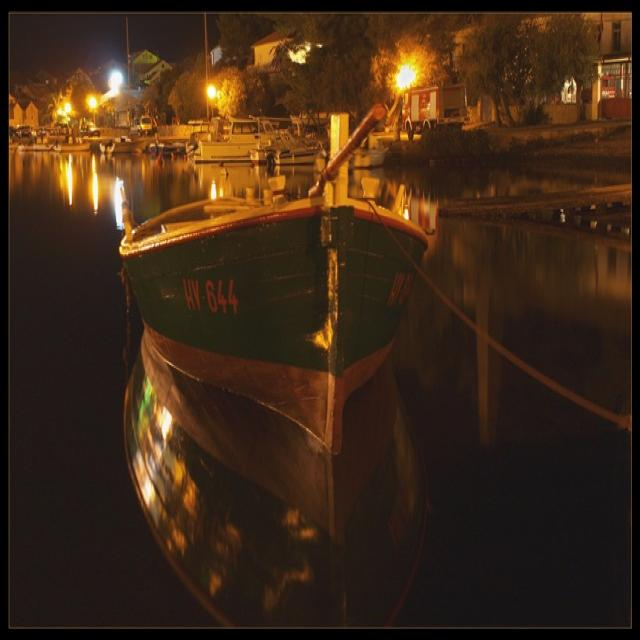Boat: (109, 171, 432, 450), (436, 161, 640, 529), (175, 62, 329, 174), (3, 87, 117, 166)
